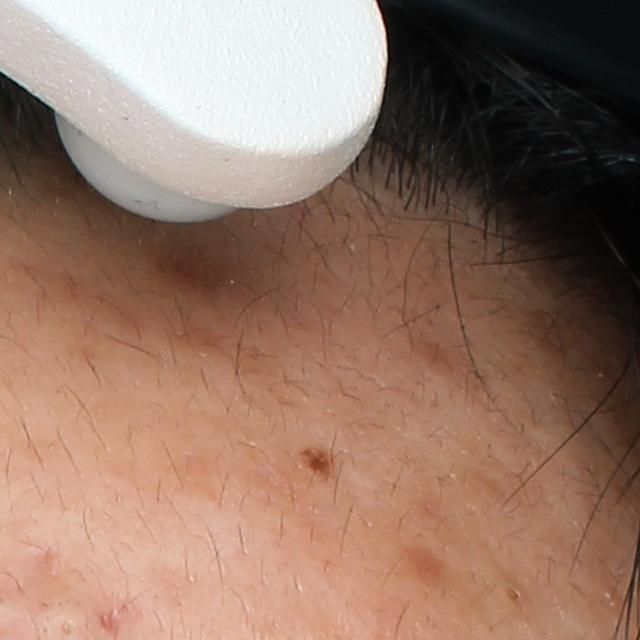nevus: (296, 443, 338, 480)
